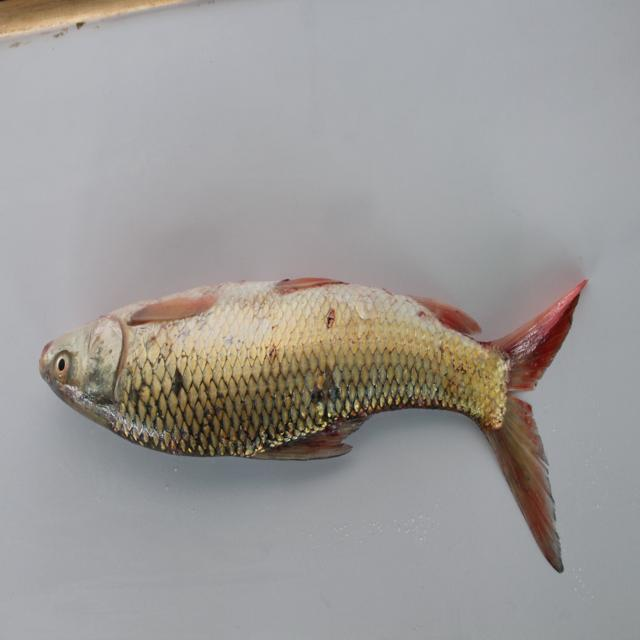Grass Carp: (37, 274, 594, 519)
